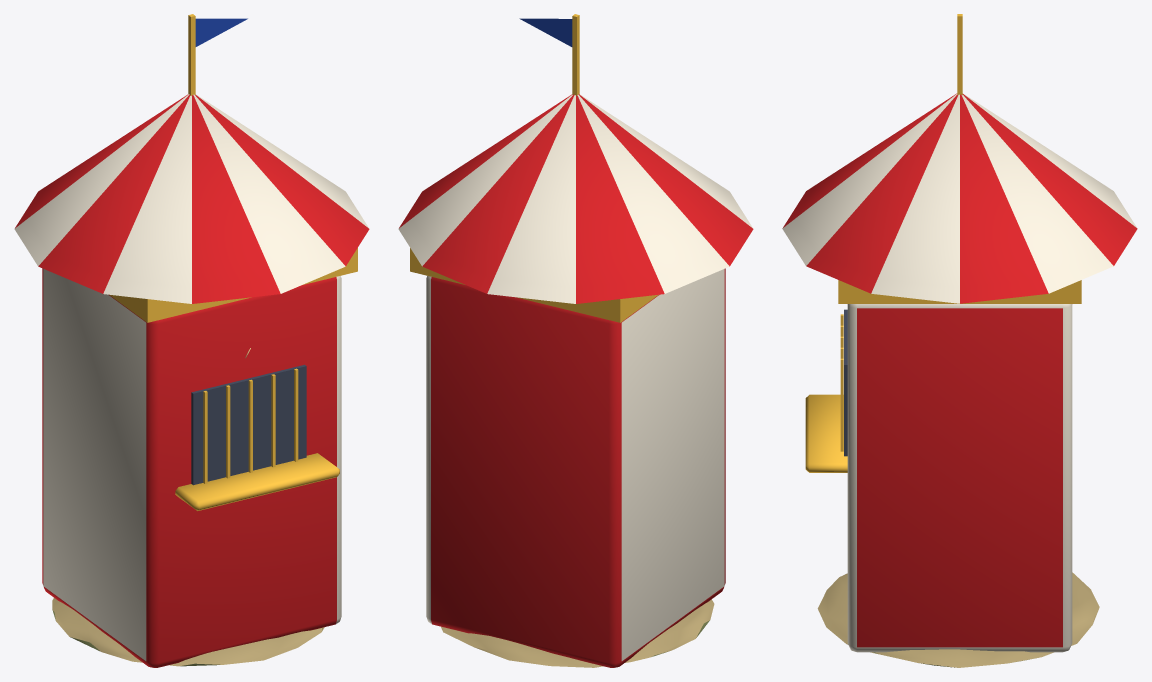
File: TicketBooth.fbx
3 views of the same model, side by side, from view 1: azimuth 30°, elevation 25°; view 2: azimuth 150°, elevation 25°; view 3: azimuth 270°, elevation 25° (orthographic).
Parts seen in each view (by area): view 1: TicketBooth; view 2: TicketBooth; view 3: TicketBooth.
Boxes of the visible parts, left/top/right/bottom form: TicketBooth: left=14, top=14, right=369, bottom=667; TicketBooth: left=398, top=14, right=753, bottom=667; TicketBooth: left=782, top=14, right=1137, bottom=667.
Bounding box in the file's own units: 1.9 × 3.5 × 1.9.
Materials: 2 (2 with a texture image).
